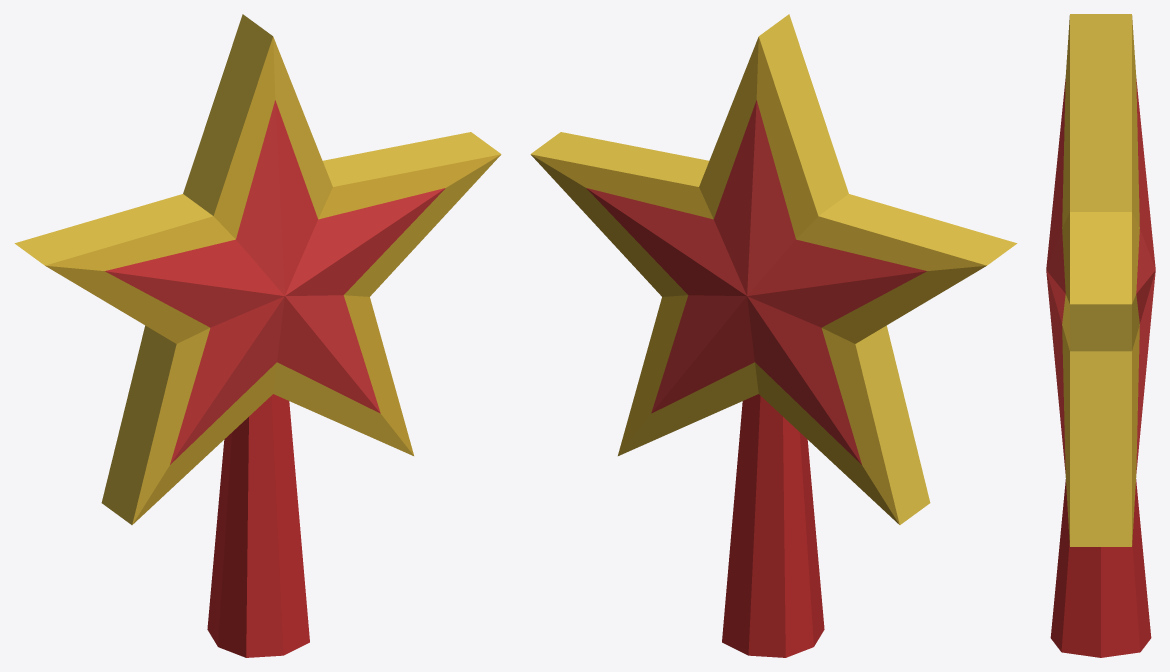
Rendered from Star1.fbx.
3 renders of one model, left to right at view 1: azimuth 30°, elevation 25°; view 2: azimuth 150°, elevation 25°; view 3: azimuth 270°, elevation 25°, orthographic.
Parts seen in each view (by area): view 1: Star1; view 2: Star1; view 3: Star1.
Part boxes in pixels (bbox=[...]): Star1: bbox=[14, 14, 501, 657]; Star1: bbox=[530, 14, 1017, 657]; Star1: bbox=[1046, 14, 1155, 657].
Size of the model in its own units: 83.77 by 109 by 17.09.
